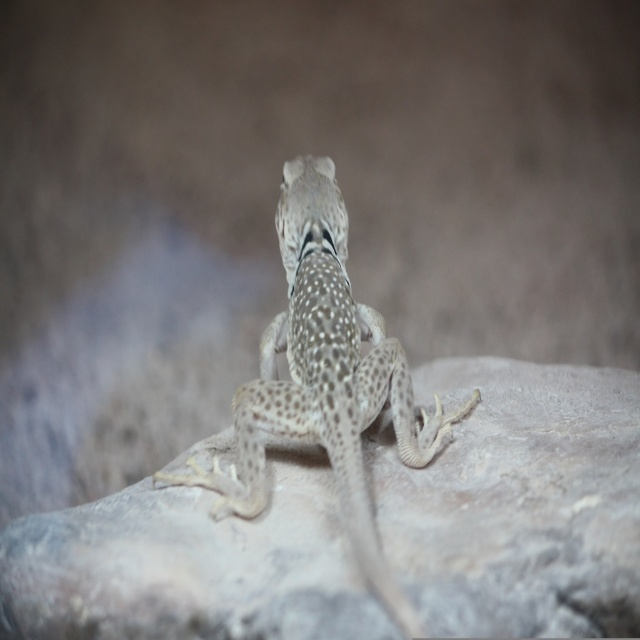Lizard: (156, 155, 484, 639)
